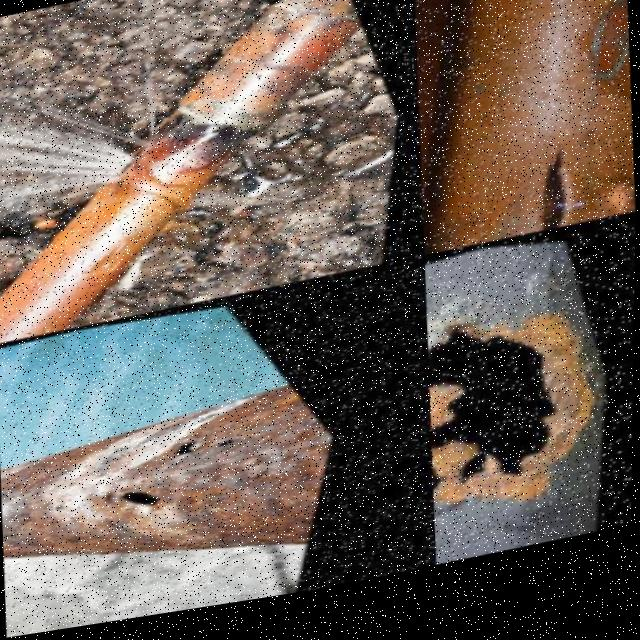hole: (428, 293, 625, 529), (116, 478, 208, 522), (171, 434, 242, 467), (435, 456, 472, 515), (230, 432, 282, 457), (62, 496, 97, 512), (4, 481, 14, 493)
rupture: (507, 134, 639, 254), (130, 134, 184, 187)
